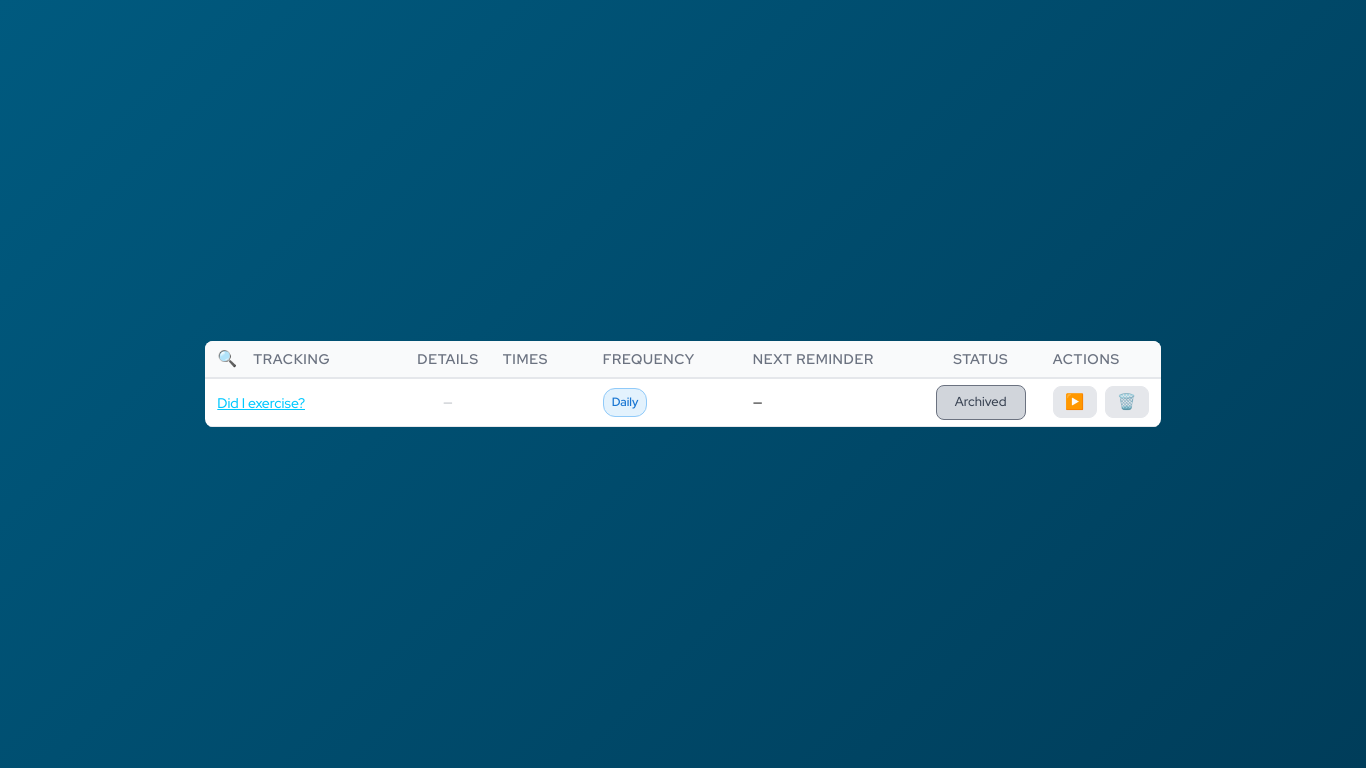
Test: TrackingsList › should show delete confirmation modal when delete button is clicked for archived tracking
Note: Find the delete action button
What coordinates should you click on to do the following:
click the button named "delete"
I would click on:
 (1127, 402)
Its box is [1105, 386, 1149, 418].
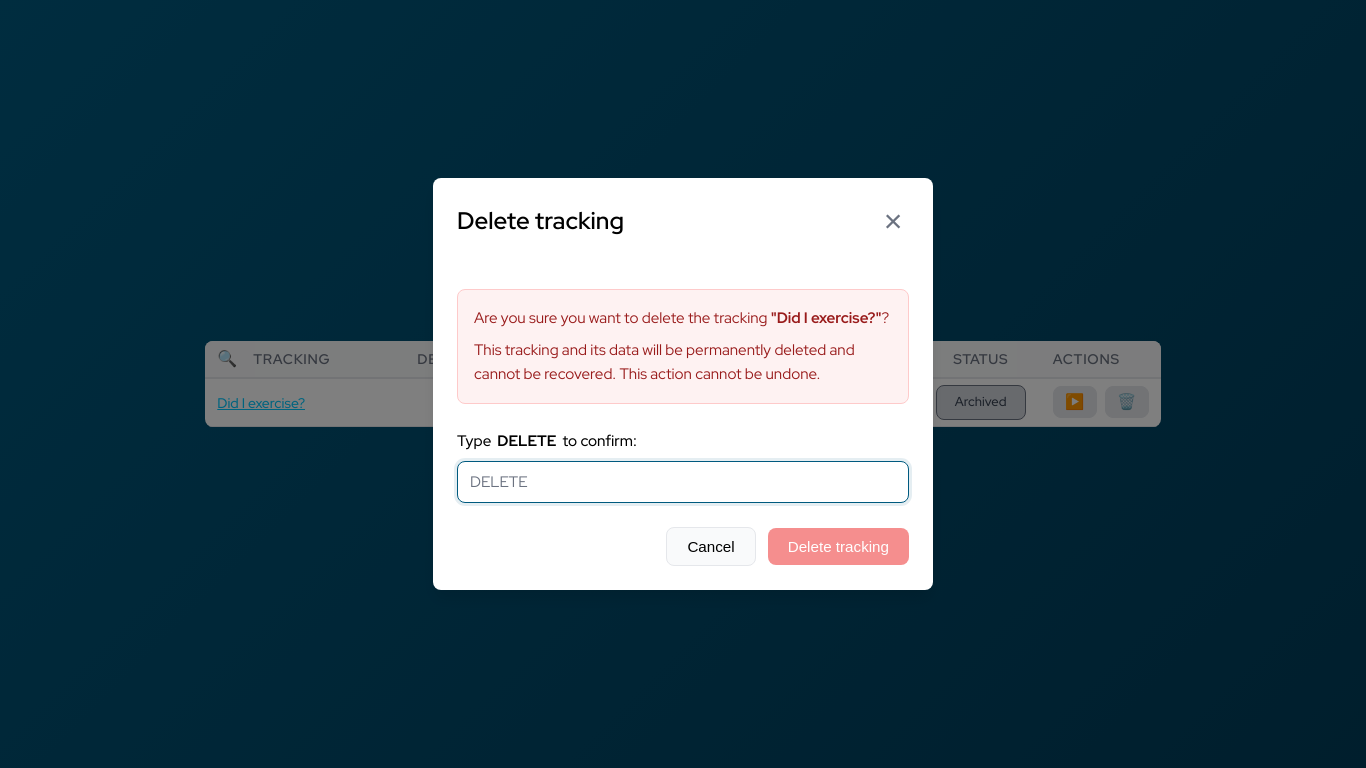
Now the heading "Delete tracking" is shown, box [457, 202, 624, 241]
Now the text "Are you sure you want to delete the tracking" is shown, box [474, 308, 771, 328]
Now the text "\"Did I exercise?\"" is shown, box [771, 308, 882, 328]
